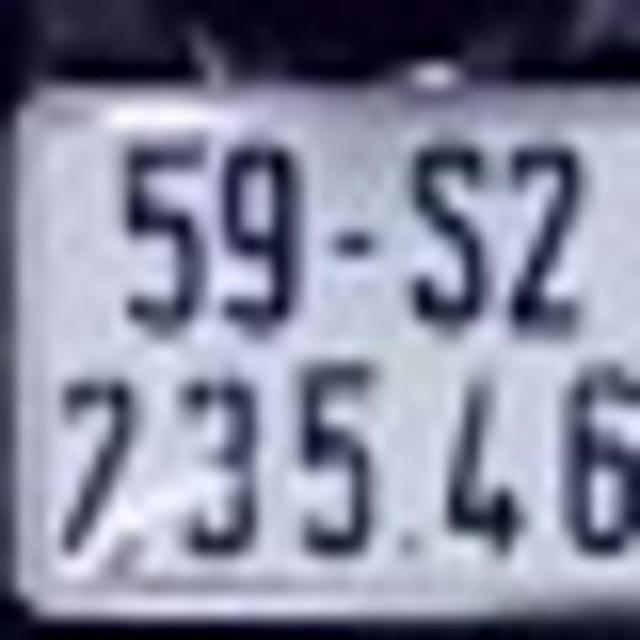2: (503, 136, 596, 322)
3: (180, 375, 272, 552)
4: (436, 354, 526, 557)
5: (116, 125, 200, 332), (296, 350, 379, 556)
6: (548, 346, 639, 557)
7: (49, 368, 140, 562)
9: (215, 129, 302, 337)
S: (406, 138, 493, 329)
